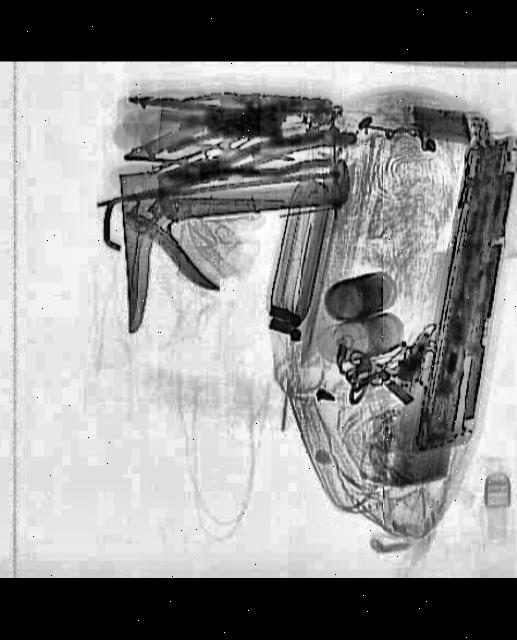Knife: (113, 160, 346, 337)
Pliers: (162, 130, 331, 197)
